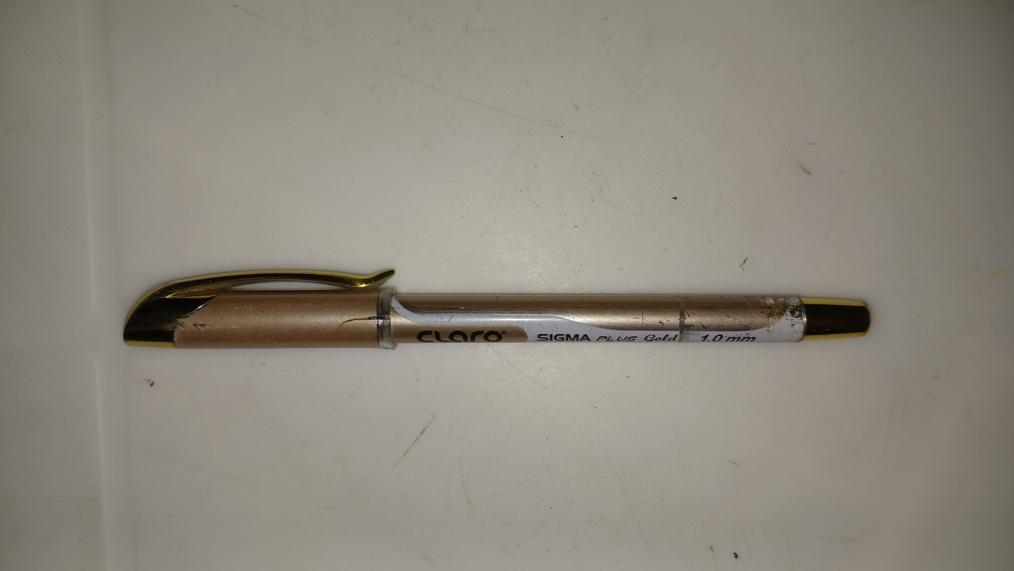pen: (120, 269, 871, 349)
